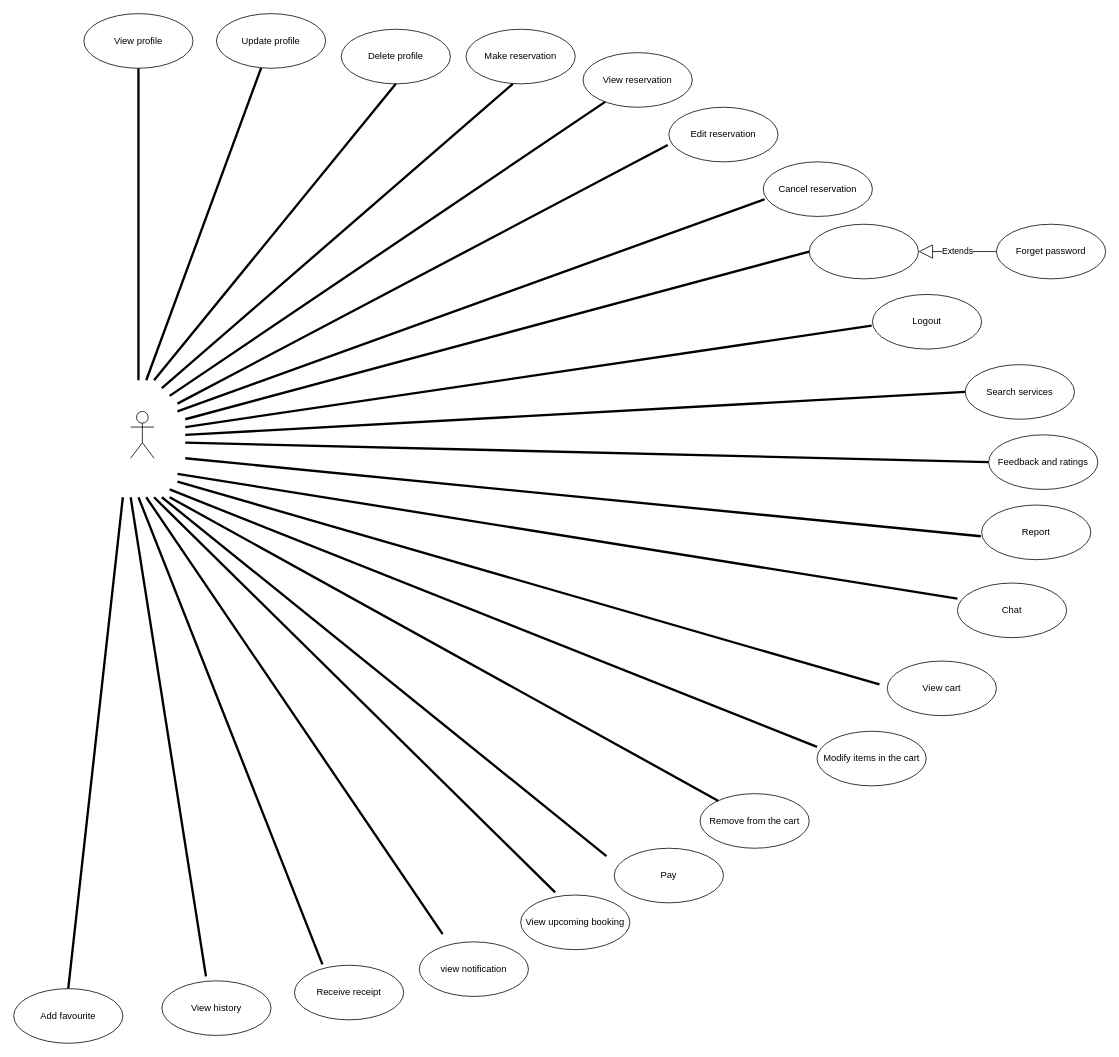
Some shapes in this 1119 by 1057 pixel diagram are drawn without their labels. The shapes that lost their labels are listed below. From the top down, each one's centre as x and y in pixels, then its label:
(x=863, y=251): Login
(x=142, y=434): Buyer
